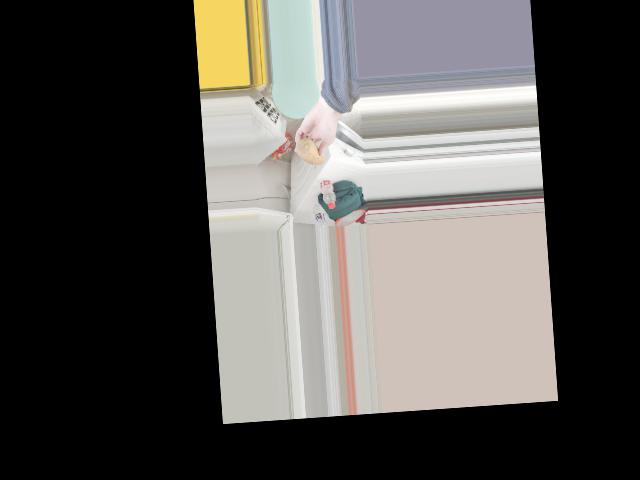sweet_potato: (298, 133, 328, 166)
